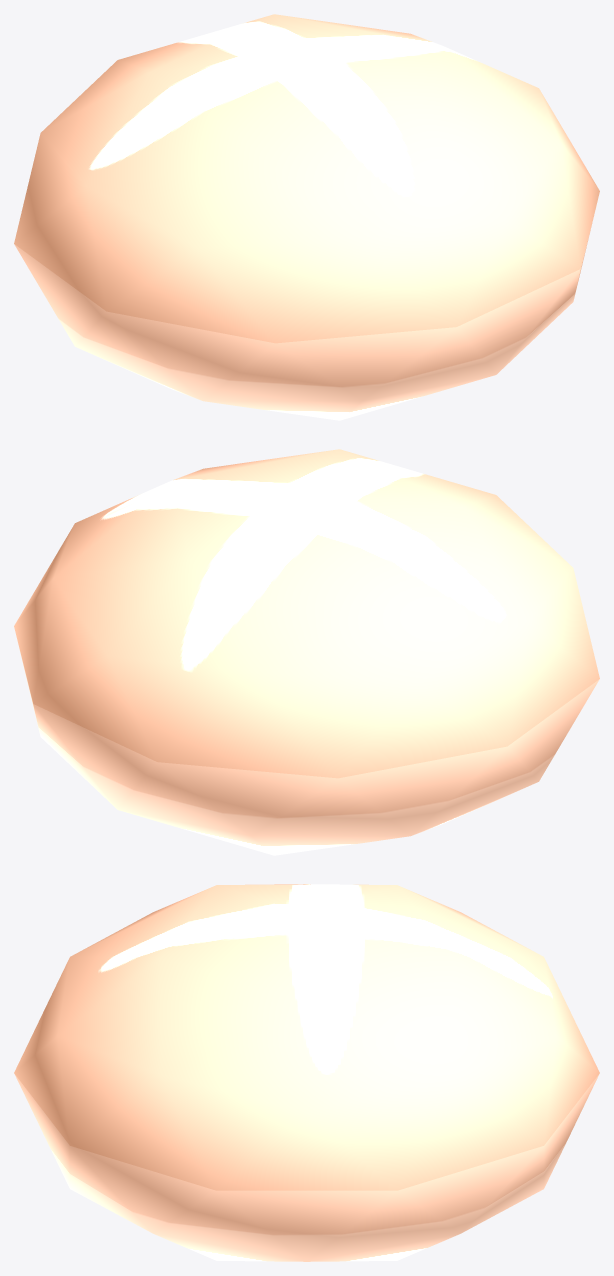
Rendered from mushroom.glb.
3 renders of one model, top to bottom at view 1: azimuth 30°, elevation 25°; view 2: azimuth 150°, elevation 25°; view 3: azimuth 270°, elevation 25°, orthographic. The views are drawn at different scales.
Visible parts, largest first — view 1: Icosphere; view 2: Icosphere; view 3: Icosphere.
Boxes of the visible parts, x1,y1,x2,y2 form: Icosphere: [14, 14, 599, 420]; Icosphere: [14, 449, 599, 855]; Icosphere: [14, 884, 599, 1261].
Size of the model in its own units: 1.9 by 1.2 by 2.
